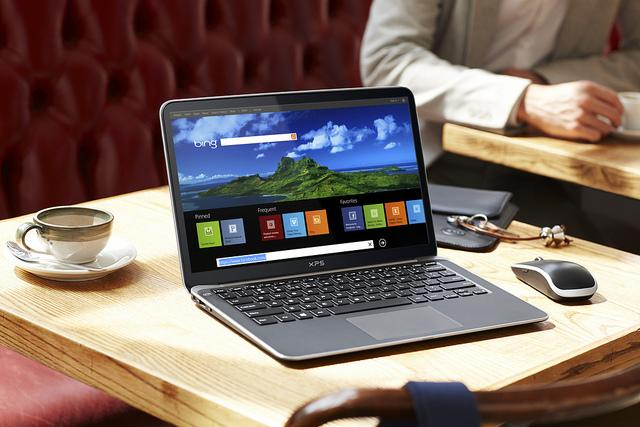cup: (43, 207, 112, 263)
